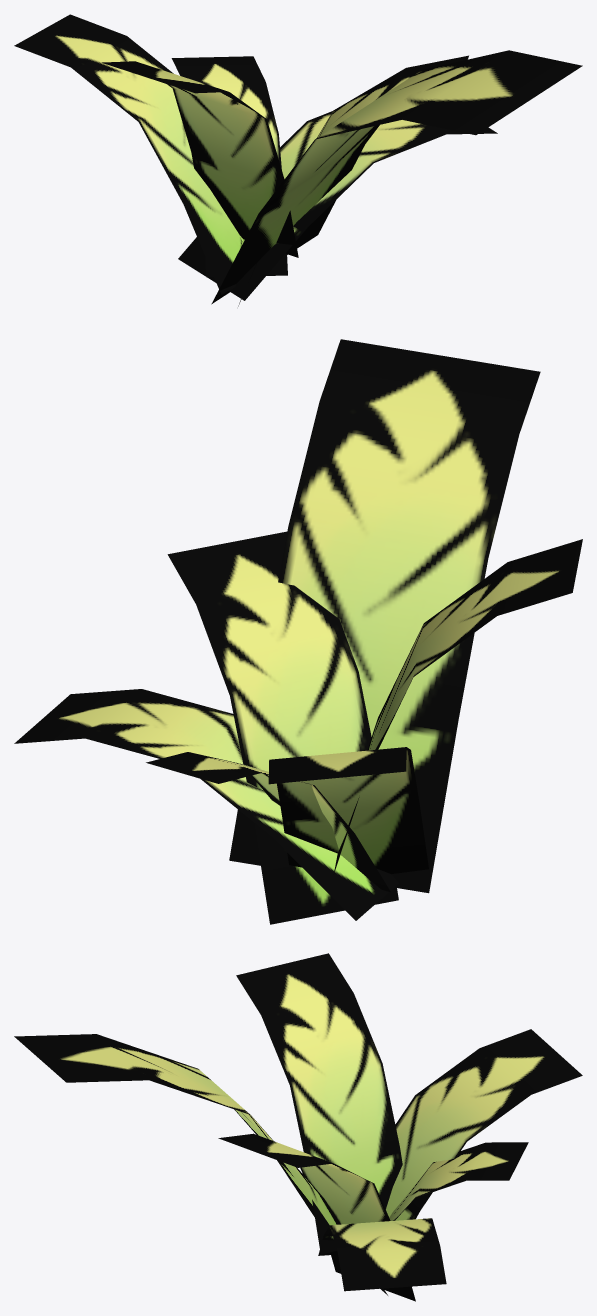
Rendered from SM_fougere_small.FBX.
3 views of the same model, one above another, from view 1: azimuth 30°, elevation 25°; view 2: azimuth 150°, elevation 25°; view 3: azimuth 270°, elevation 25° (orthographic). The views are drawn at different scales.
Parts seen in each view (by area): view 1: foug_little010; view 2: foug_little010; view 3: foug_little010.
Boxes of the visible parts, box(x1,y1,x2,y2) form: foug_little010: box(14, 14, 582, 306); foug_little010: box(14, 339, 582, 924); foug_little010: box(14, 953, 582, 1301).
Size of the model in its own units: 313 by 227 by 421.
